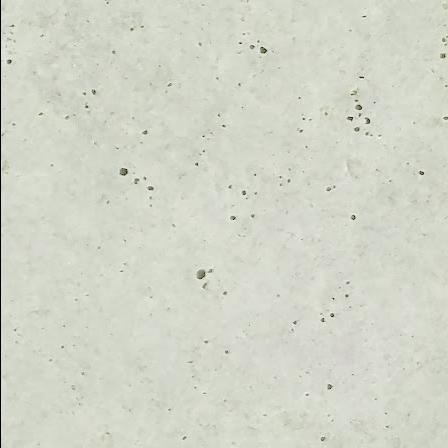spalling: (114, 163, 132, 180), (254, 43, 269, 58), (194, 267, 206, 282)
